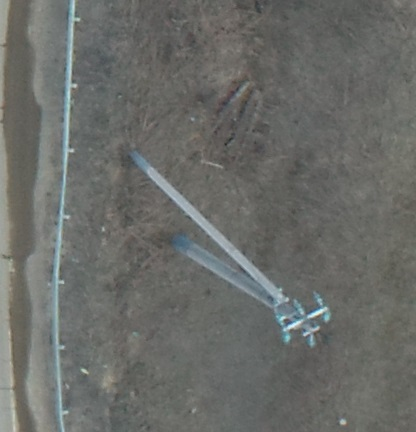opora: (126, 146, 334, 351)
